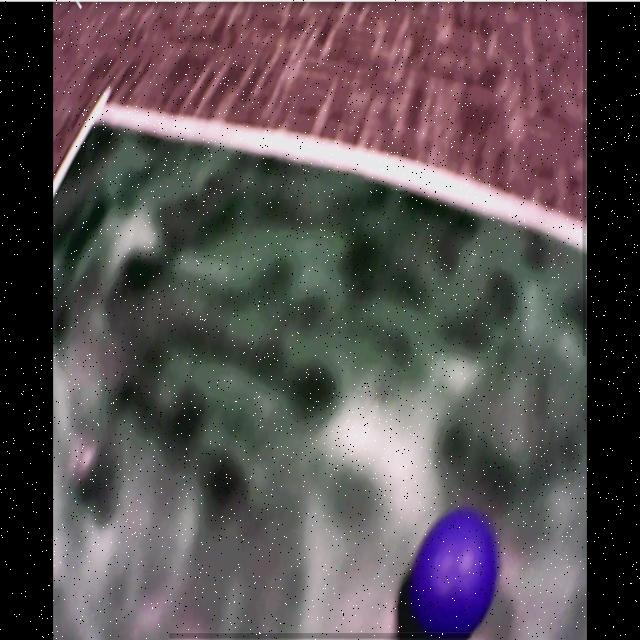ball: (415, 509, 500, 628)
